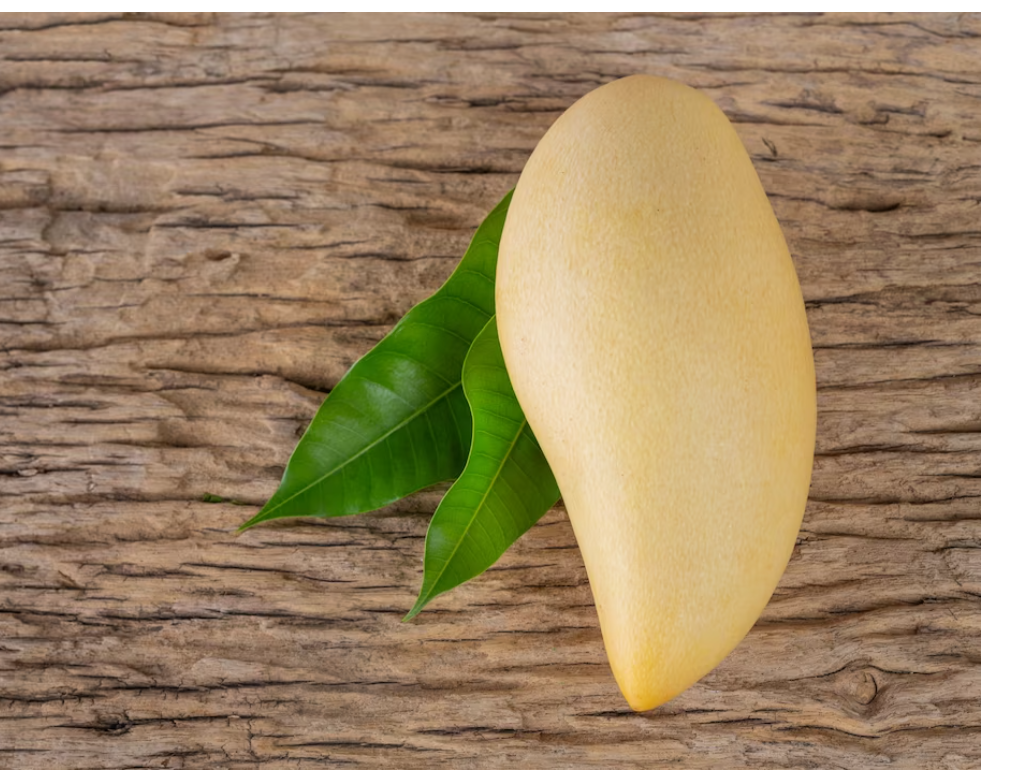mango: (494, 67, 818, 718)
